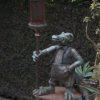Statue: (26, 27, 83, 84)
